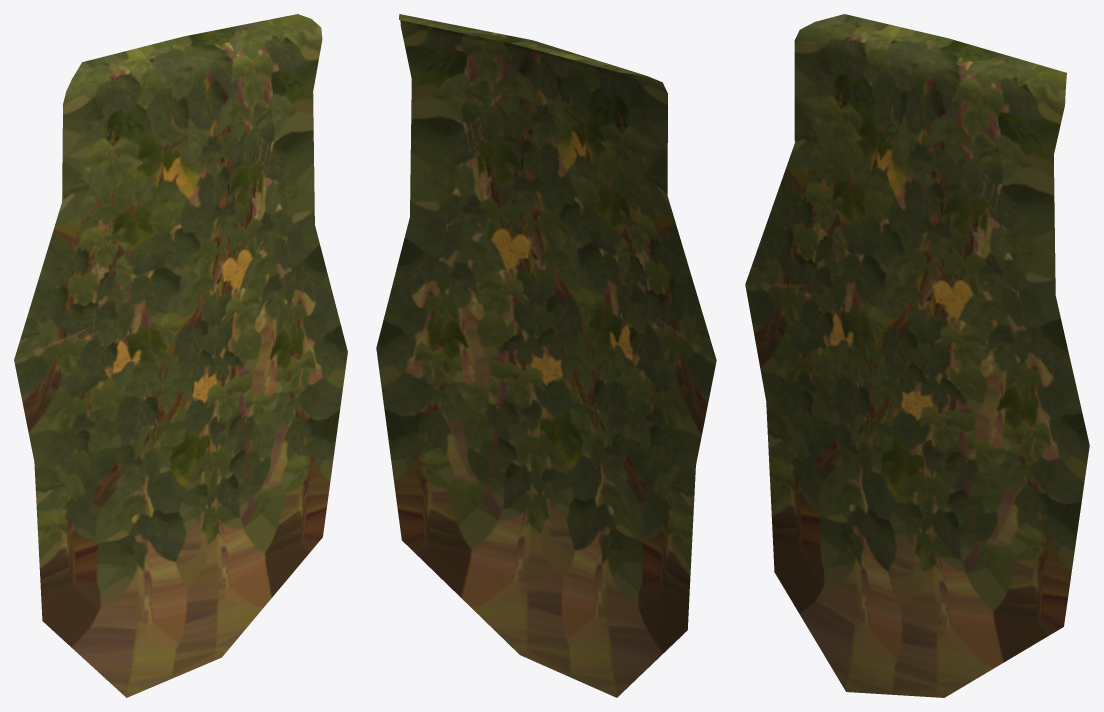
The model's file is Japanese_MG_lowpoly_var5.fbx.
The picture shows the model from 3 angles, left to right: view 1: azimuth 30°, elevation 25°; view 2: azimuth 150°, elevation 25°; view 3: azimuth 330°, elevation 25°; orthographic projection. The views are drawn at different scales.
Parts seen in each view (by area): view 1: Japanese_MG_lowpoly_var5_LOD0; view 2: Japanese_MG_lowpoly_var5_LOD0; view 3: Japanese_MG_lowpoly_var5_LOD0.
Part boxes in pixels (x1,y1,x2,y2): Japanese_MG_lowpoly_var5_LOD0: [14, 14, 347, 697]; Japanese_MG_lowpoly_var5_LOD0: [376, 14, 716, 697]; Japanese_MG_lowpoly_var5_LOD0: [745, 14, 1089, 697].
Size of what is drawn, in the model's own units: 123 by 222 by 20.05.
